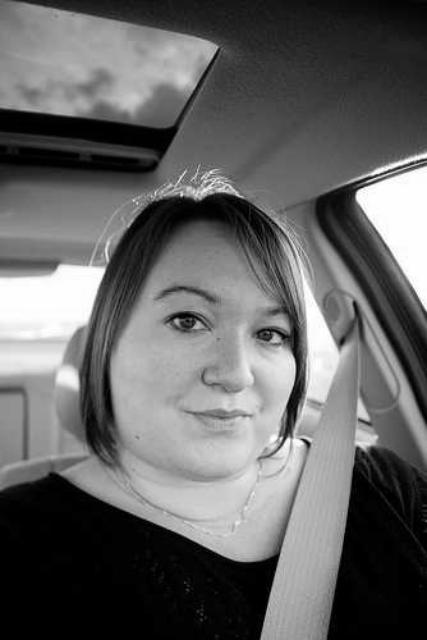SafeDriving: (154, 296, 218, 341), (242, 308, 300, 354)
Seatbelt: (256, 284, 371, 640)
